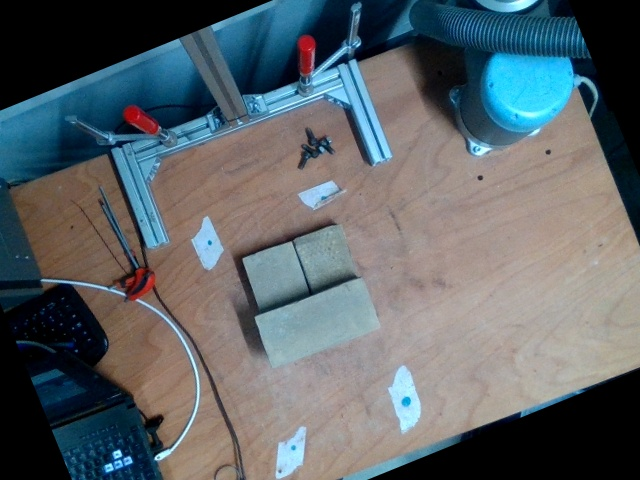brick: (253, 277, 382, 368)
